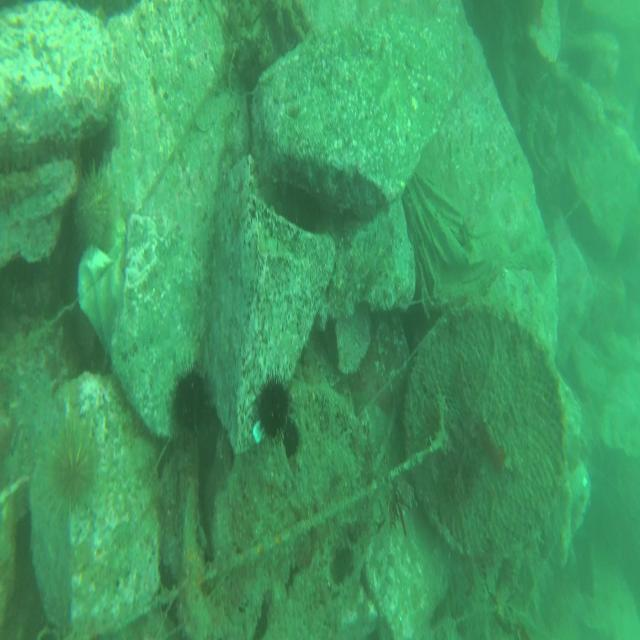echinus: (41, 404, 104, 518), (71, 163, 117, 254), (166, 365, 213, 446), (252, 365, 295, 446), (327, 532, 358, 586), (282, 422, 301, 458)
holothurian: (0, 132, 80, 177), (519, 78, 542, 156), (0, 177, 48, 211), (534, 95, 548, 153)
